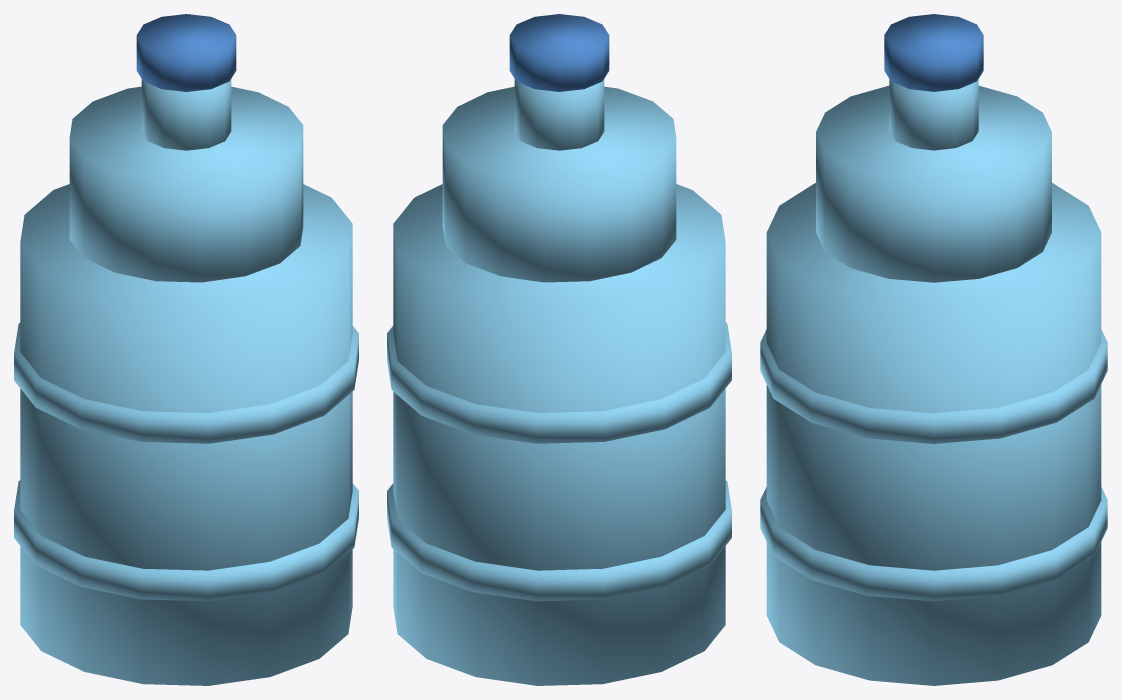
Rendered from Istanbul_WaterJug.fbx.
3 renders of one model, left to right at view 1: azimuth 30°, elevation 25°; view 2: azimuth 150°, elevation 25°; view 3: azimuth 270°, elevation 25°, orthographic.
Visible parts, largest first — view 1: Damacana_Body, Damacana_Shoulder, Damacana_Ring2, Damacana_Ring1, Damacana_Cap, Damacana_Neck; view 2: Damacana_Body, Damacana_Shoulder, Damacana_Ring2, Damacana_Ring1, Damacana_Cap, Damacana_Neck; view 3: Damacana_Body, Damacana_Shoulder, Damacana_Ring1, Damacana_Ring2, Damacana_Cap, Damacana_Neck.
Part boxes in pixels (x1,y1,x2,y2): Damacana_Body: (20,184,352,685); Damacana_Shoulder: (69,86,303,282); Damacana_Ring2: (14,322,358,443); Damacana_Ring1: (14,480,358,601); Damacana_Cap: (136,14,236,91); Damacana_Neck: (141,79,231,150); Damacana_Body: (393,184,725,685); Damacana_Shoulder: (442,86,676,282); Damacana_Ring2: (387,322,731,443); Damacana_Ring1: (387,480,731,601); Damacana_Cap: (509,14,609,91); Damacana_Neck: (514,79,604,150); Damacana_Body: (766,183,1101,685); Damacana_Shoulder: (816,85,1051,282); Damacana_Ring1: (760,487,1107,601); Damacana_Ring2: (760,329,1107,443); Damacana_Cap: (884,14,983,91); Damacana_Neck: (889,79,978,150).
Size of the model in its own units: 0.28 by 0.516 by 0.28.
